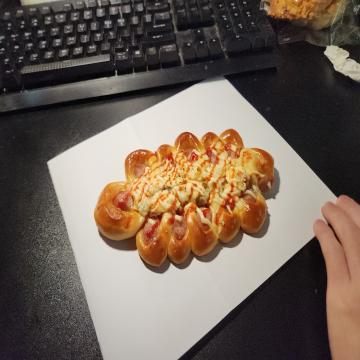pizza_bread: (98, 128, 276, 267)
